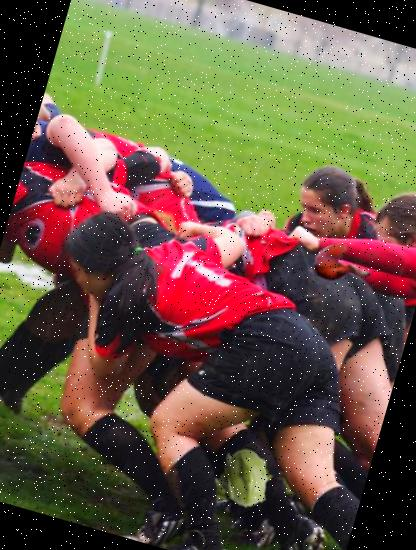Banana: (309, 233, 372, 296)
Kohlrabi: (208, 440, 282, 514)
